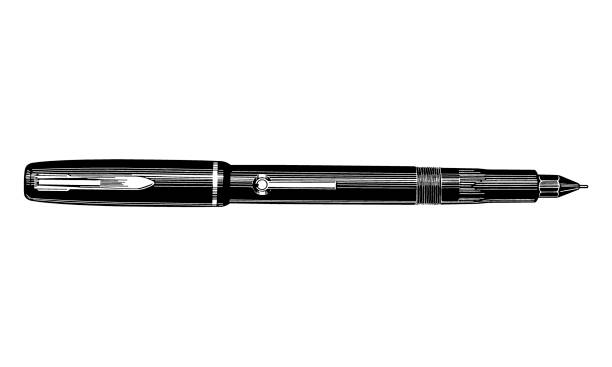pen: (13, 128, 597, 240)
